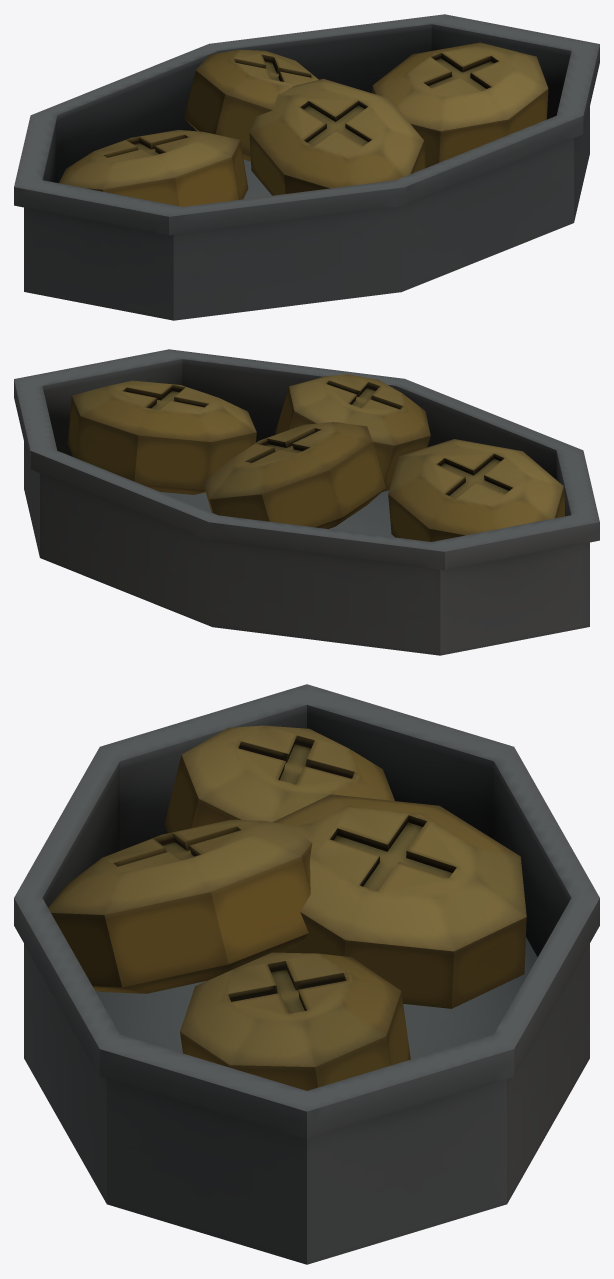
Rendered from meyva4.fbx.
3 renders of one model, top to bottom at view 1: azimuth 30°, elevation 25°; view 2: azimuth 150°, elevation 25°; view 3: azimuth 270°, elevation 25°, orthographic. The views are drawn at different scales.
Parts seen in each view (by area): view 1: Circle.007; view 2: Circle.007; view 3: Circle.007.
Part boxes in pixels (x1,y1,x2,y2): Circle.007: (14, 14, 599, 320); Circle.007: (14, 349, 599, 655); Circle.007: (14, 684, 599, 1264).
Bounding box in the file's own units: 80.44 × 19.43 × 46.6.
